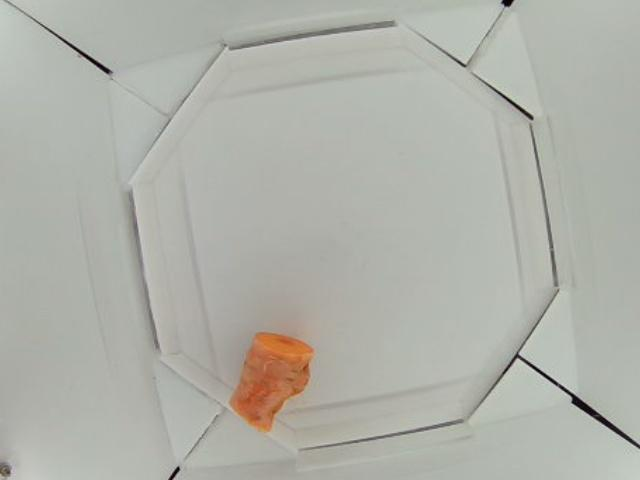Carrot: (231, 336, 311, 428)
